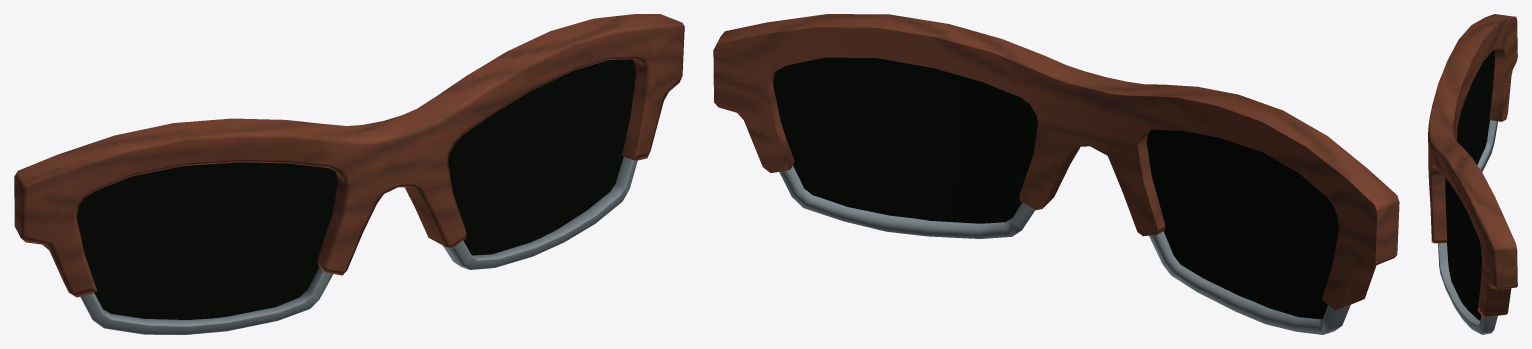
Rendered from AccessoryGlassWood0.glb.
The picture shows the model from 3 angles, left to right: view 1: azimuth 30°, elevation 25°; view 2: azimuth 150°, elevation 25°; view 3: azimuth 270°, elevation 25°; orthographic projection. The views are drawn at different scales.
Visible parts, largest first — view 1: AccessoryAlpha__mAccessoryAlpha, Accessory__mAccessory; view 2: AccessoryAlpha__mAccessoryAlpha, Accessory__mAccessory; view 3: Accessory__mAccessory, AccessoryAlpha__mAccessoryAlpha.
Part boxes in pixels (bbox=[...]): AccessoryAlpha__mAccessoryAlpha: bbox=[77, 59, 635, 319]; Accessory__mAccessory: bbox=[14, 14, 684, 334]; AccessoryAlpha__mAccessoryAlpha: bbox=[773, 57, 1338, 319]; Accessory__mAccessory: bbox=[713, 14, 1399, 334]; Accessory__mAccessory: bbox=[1428, 14, 1517, 334]; AccessoryAlpha__mAccessoryAlpha: bbox=[1445, 50, 1494, 320].
Bounding box in the file's own units: 6.44 × 1.89 × 1.04.
2 materials, 2 textured.
